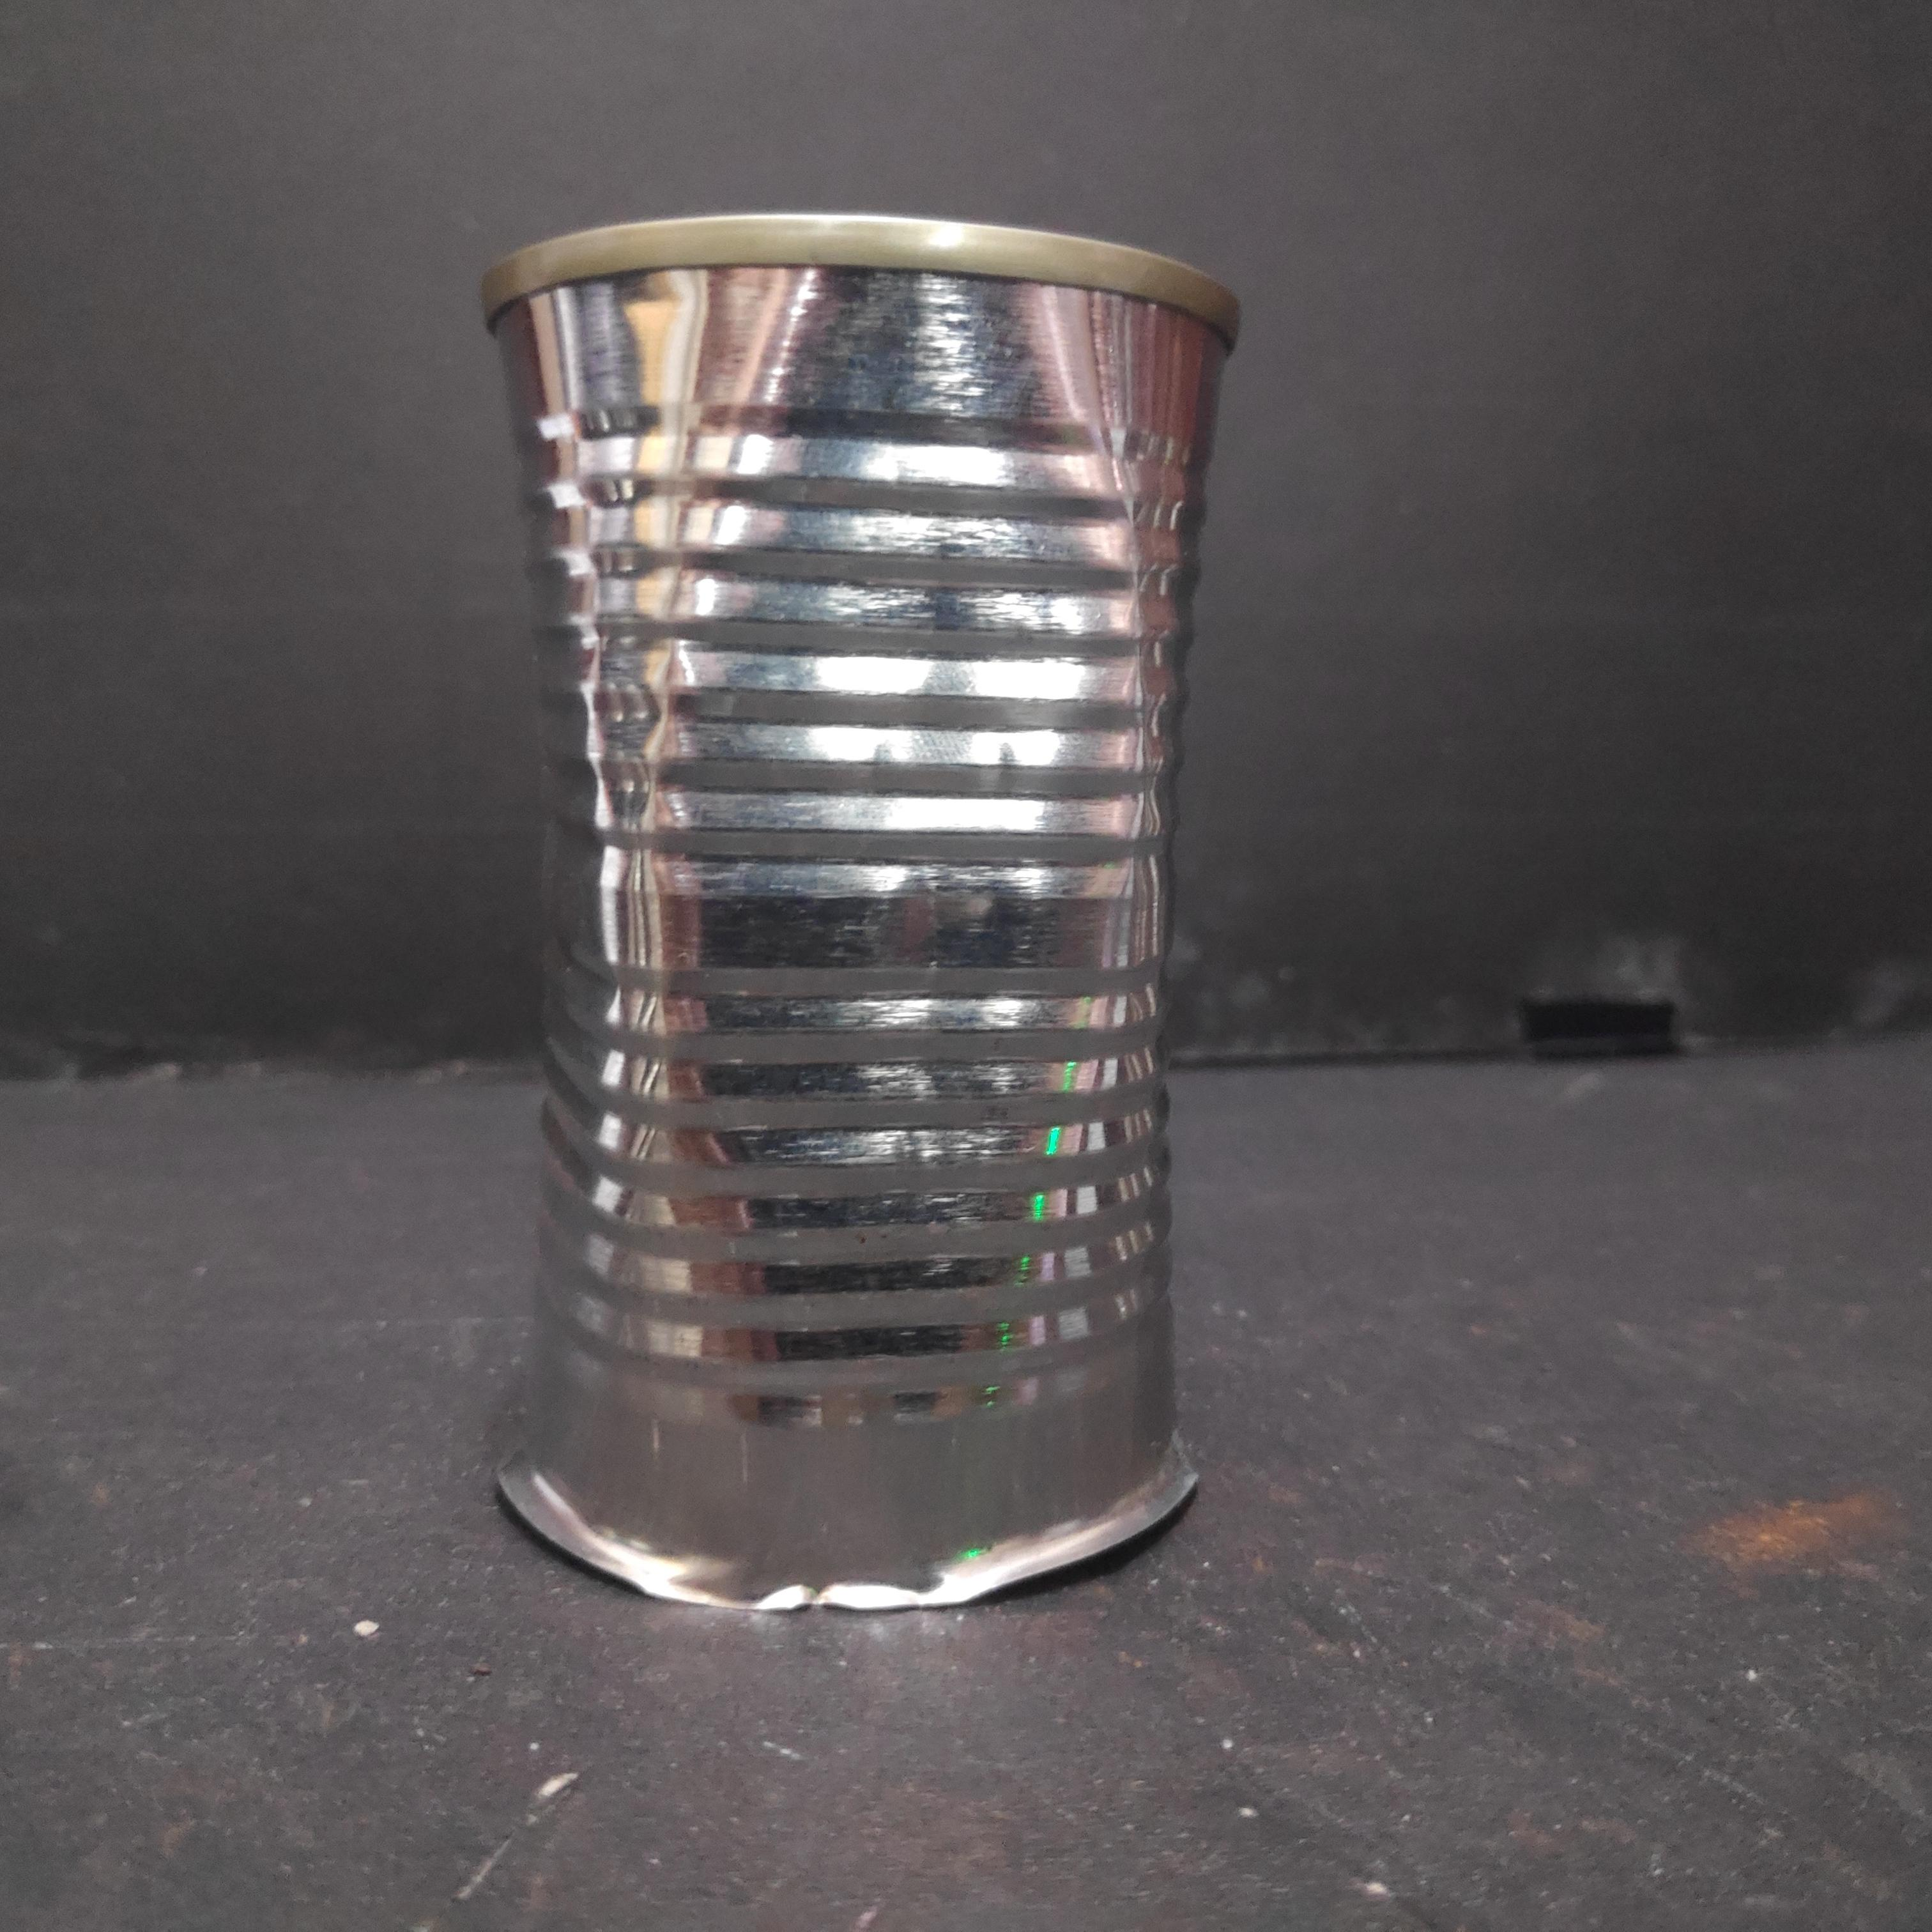Minor Defect: (464, 198, 1251, 1624)
